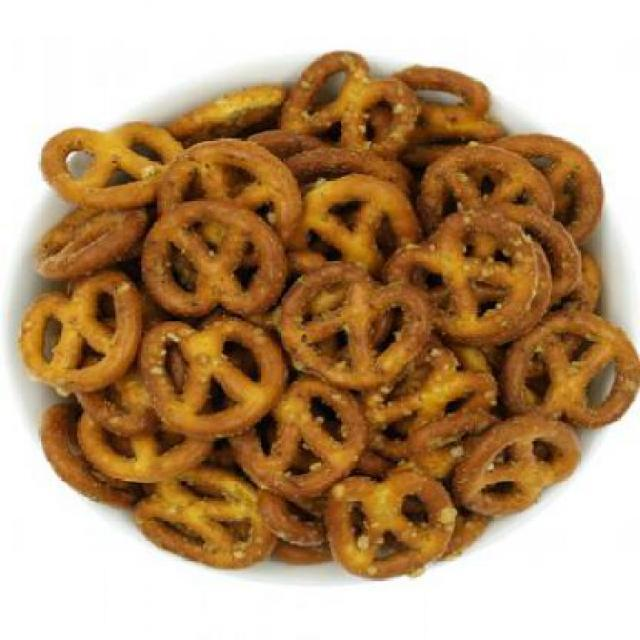Salatini packaged: (19, 52, 638, 586)
